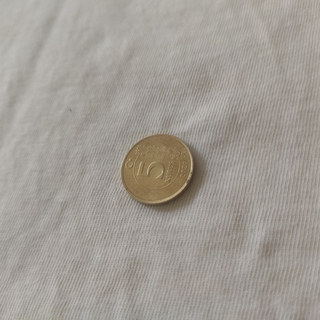5KURUS: (119, 131, 195, 207)
